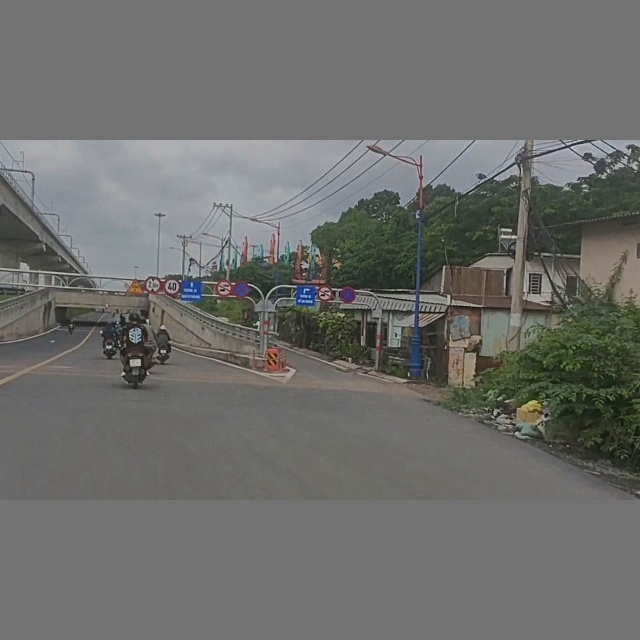P.107: (215, 280, 233, 297), (317, 285, 332, 302)
P.117*: (145, 277, 161, 293)
P.127*40: (163, 279, 181, 296)
P.130: (234, 281, 251, 299), (339, 287, 357, 304)
W.239b*: (127, 277, 145, 294)
